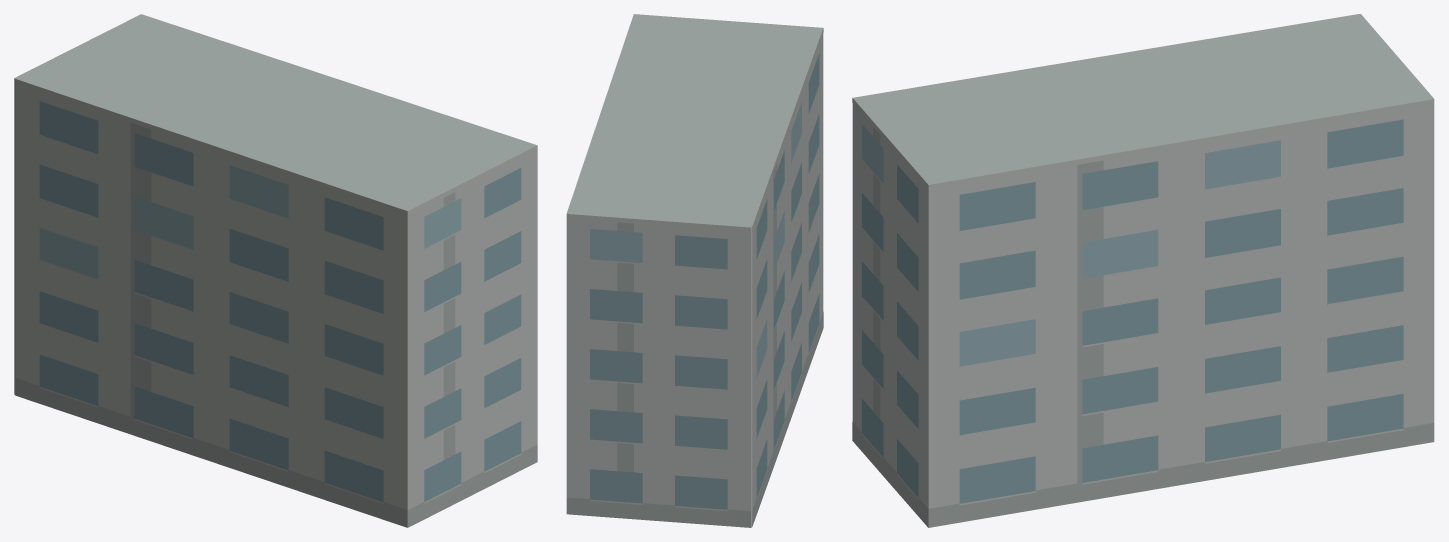
The model's file is survey-upis-32866754.glb.
The picture shows the model from 3 angles, left to right: view 1: azimuth 30°, elevation 25°; view 2: azimuth 150°, elevation 25°; view 3: azimuth 270°, elevation 25°; orthographic projection. The views are drawn at different scales.
Parts seen in each view (by area): view 1: survey-upis-32866754.tmp; view 2: survey-upis-32866754.tmp; view 3: survey-upis-32866754.tmp.
Part boxes in pixels (left/top/right/bottom): survey-upis-32866754.tmp: left=14, top=14, right=537, bottom=527; survey-upis-32866754.tmp: left=566, top=14, right=823, bottom=527; survey-upis-32866754.tmp: left=852, top=14, right=1434, bottom=527.
Bounding box in the file's own units: 17.06 × 15.95 × 24.54.
